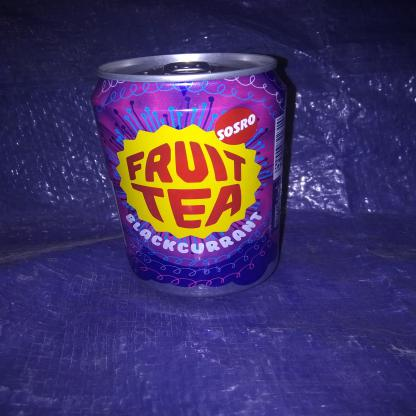can: (86, 48, 290, 298)
